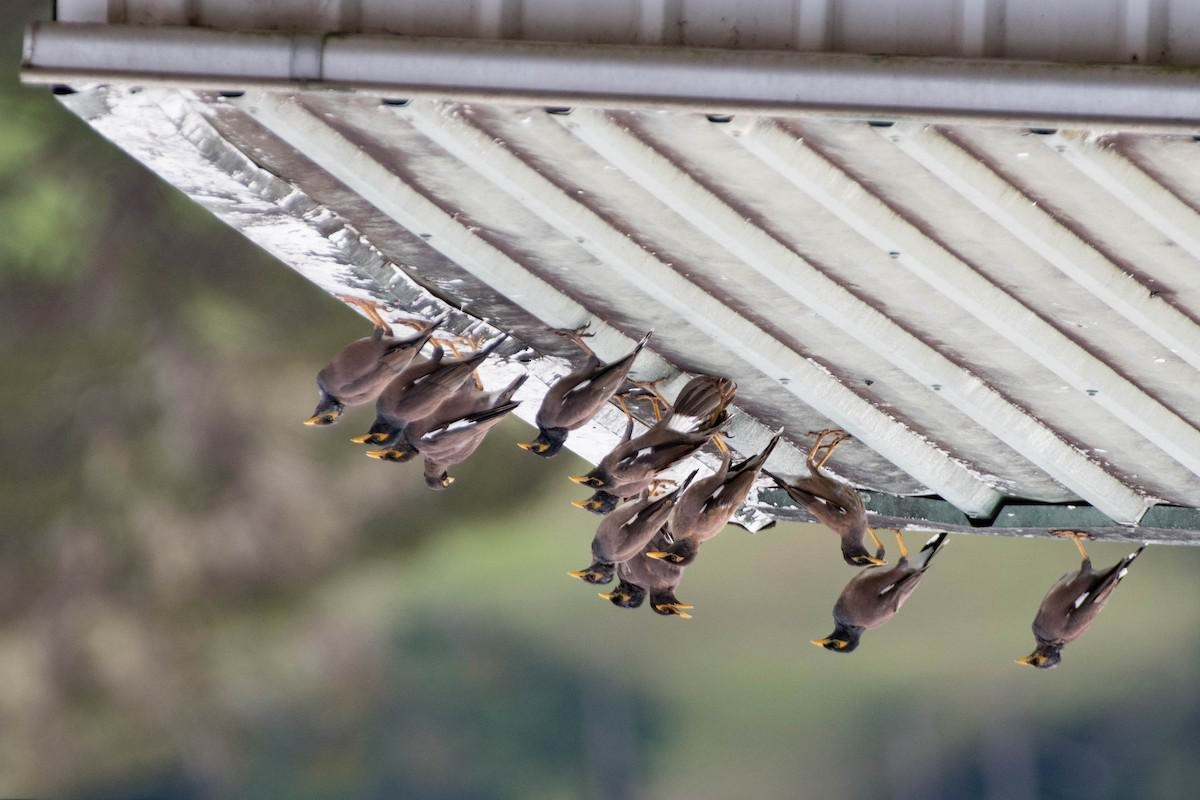myna: (1009, 542, 1143, 690), (513, 337, 653, 474), (300, 298, 425, 441), (808, 551, 940, 665), (338, 362, 477, 466), (649, 452, 766, 573), (783, 450, 883, 571), (566, 487, 674, 586), (648, 565, 704, 634)
